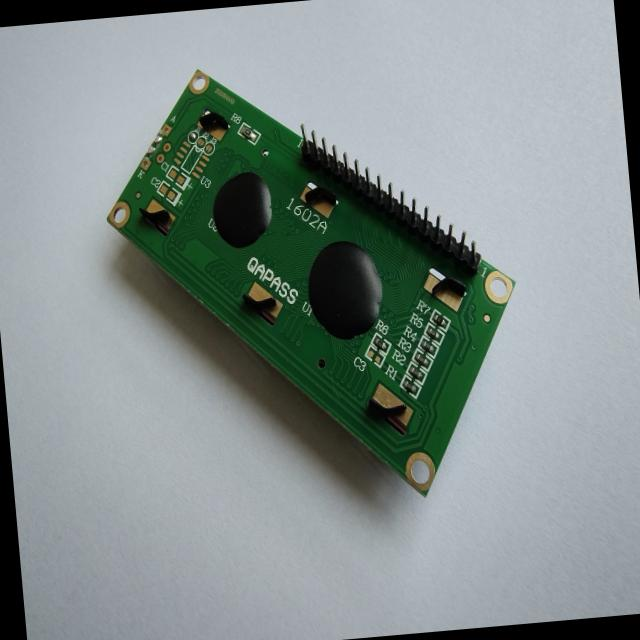lcd: (92, 40, 534, 524)
